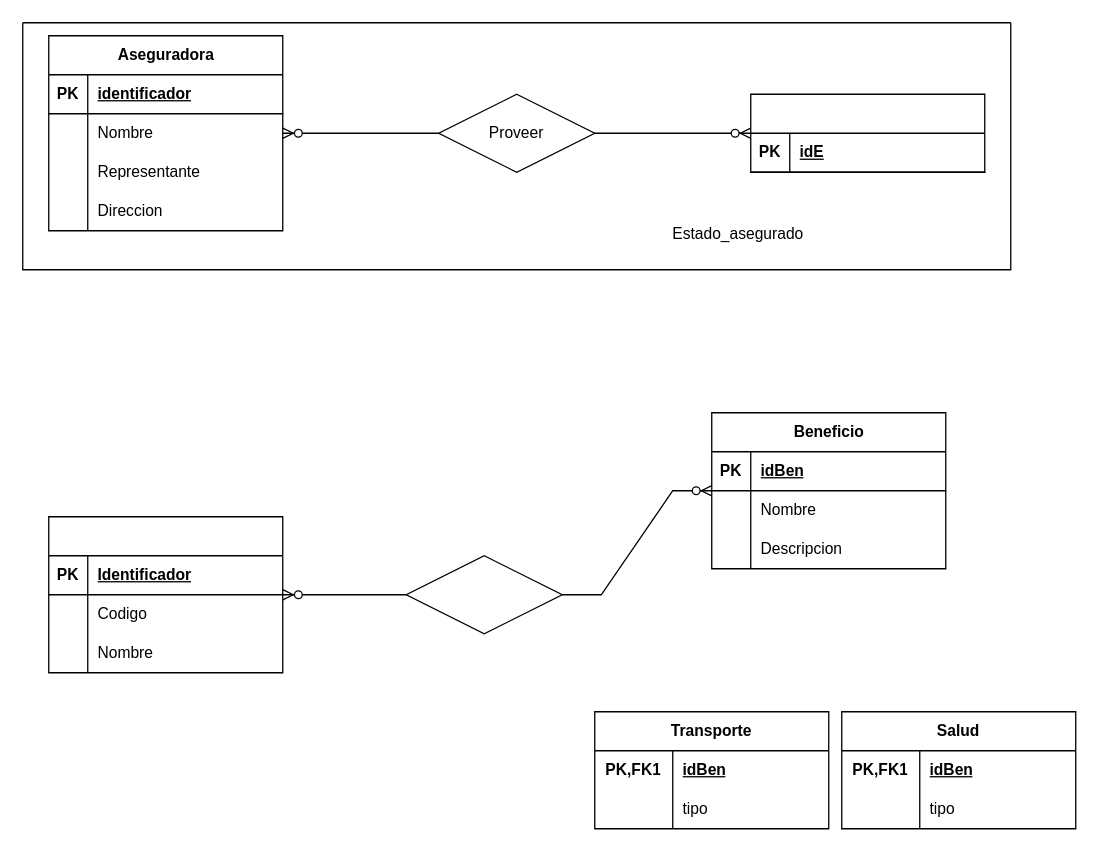
Image size: 1099x851. Some labels were removed from this diagram. Here are the shapes that lost their labels. From the top down, the box of each, then its label:
(749, 93, 985, 172): Estado
(47, 515, 283, 673): Paquete
(405, 554, 562, 634): Disponer
